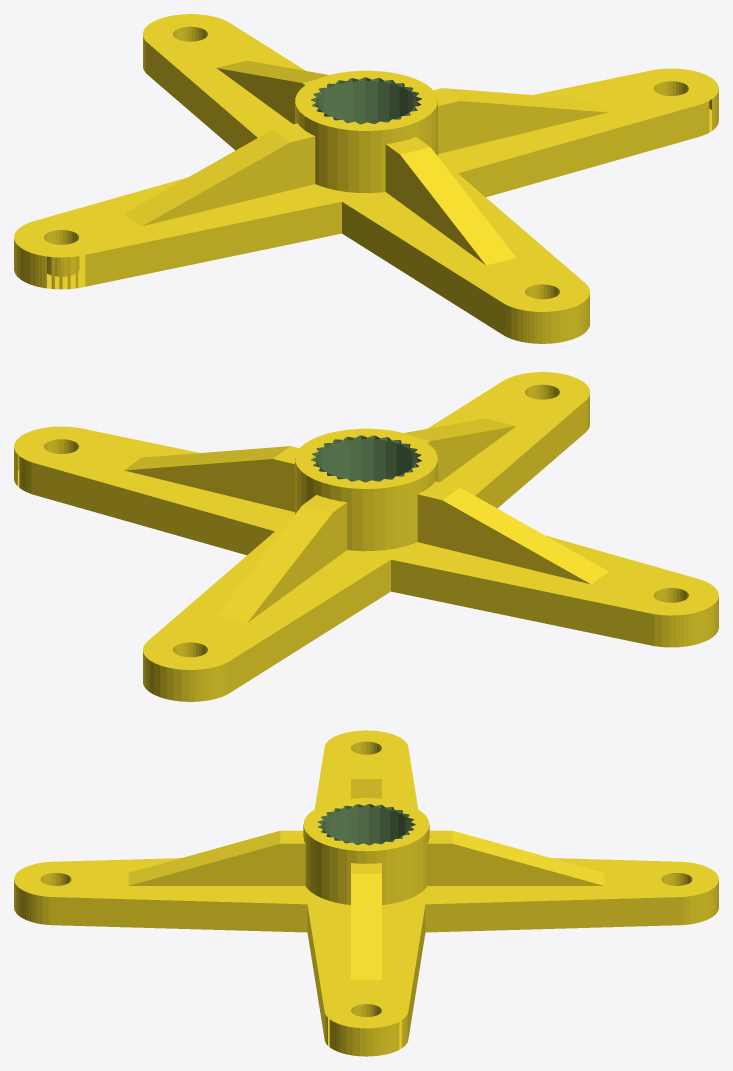
The model's file is openscad_servo-arm.glb.
3 renders of one model, top to bottom at view 1: azimuth 30°, elevation 25°; view 2: azimuth 150°, elevation 25°; view 3: azimuth 270°, elevation 25°, orthographic. The views are drawn at different scales.
Parts seen in each view (by area): view 1: object; view 2: object; view 3: object.
Boxes of the visible parts, box(x1,y1,x2,y2) form: object: box(14, 14, 718, 343); object: box(14, 372, 718, 701); object: box(14, 730, 718, 1056).
Bounding box in the file's own units: 45.41 × 5.9 × 45.41.
